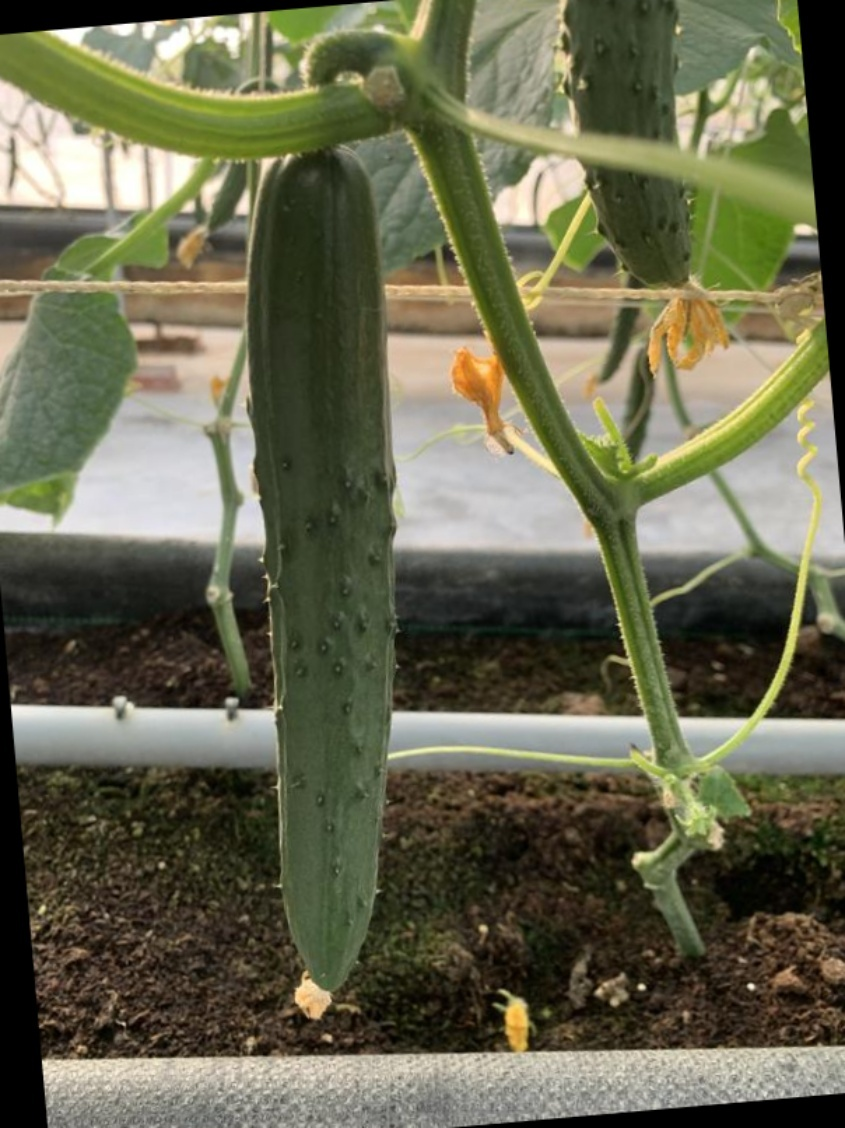mature: (221, 162, 420, 944)
